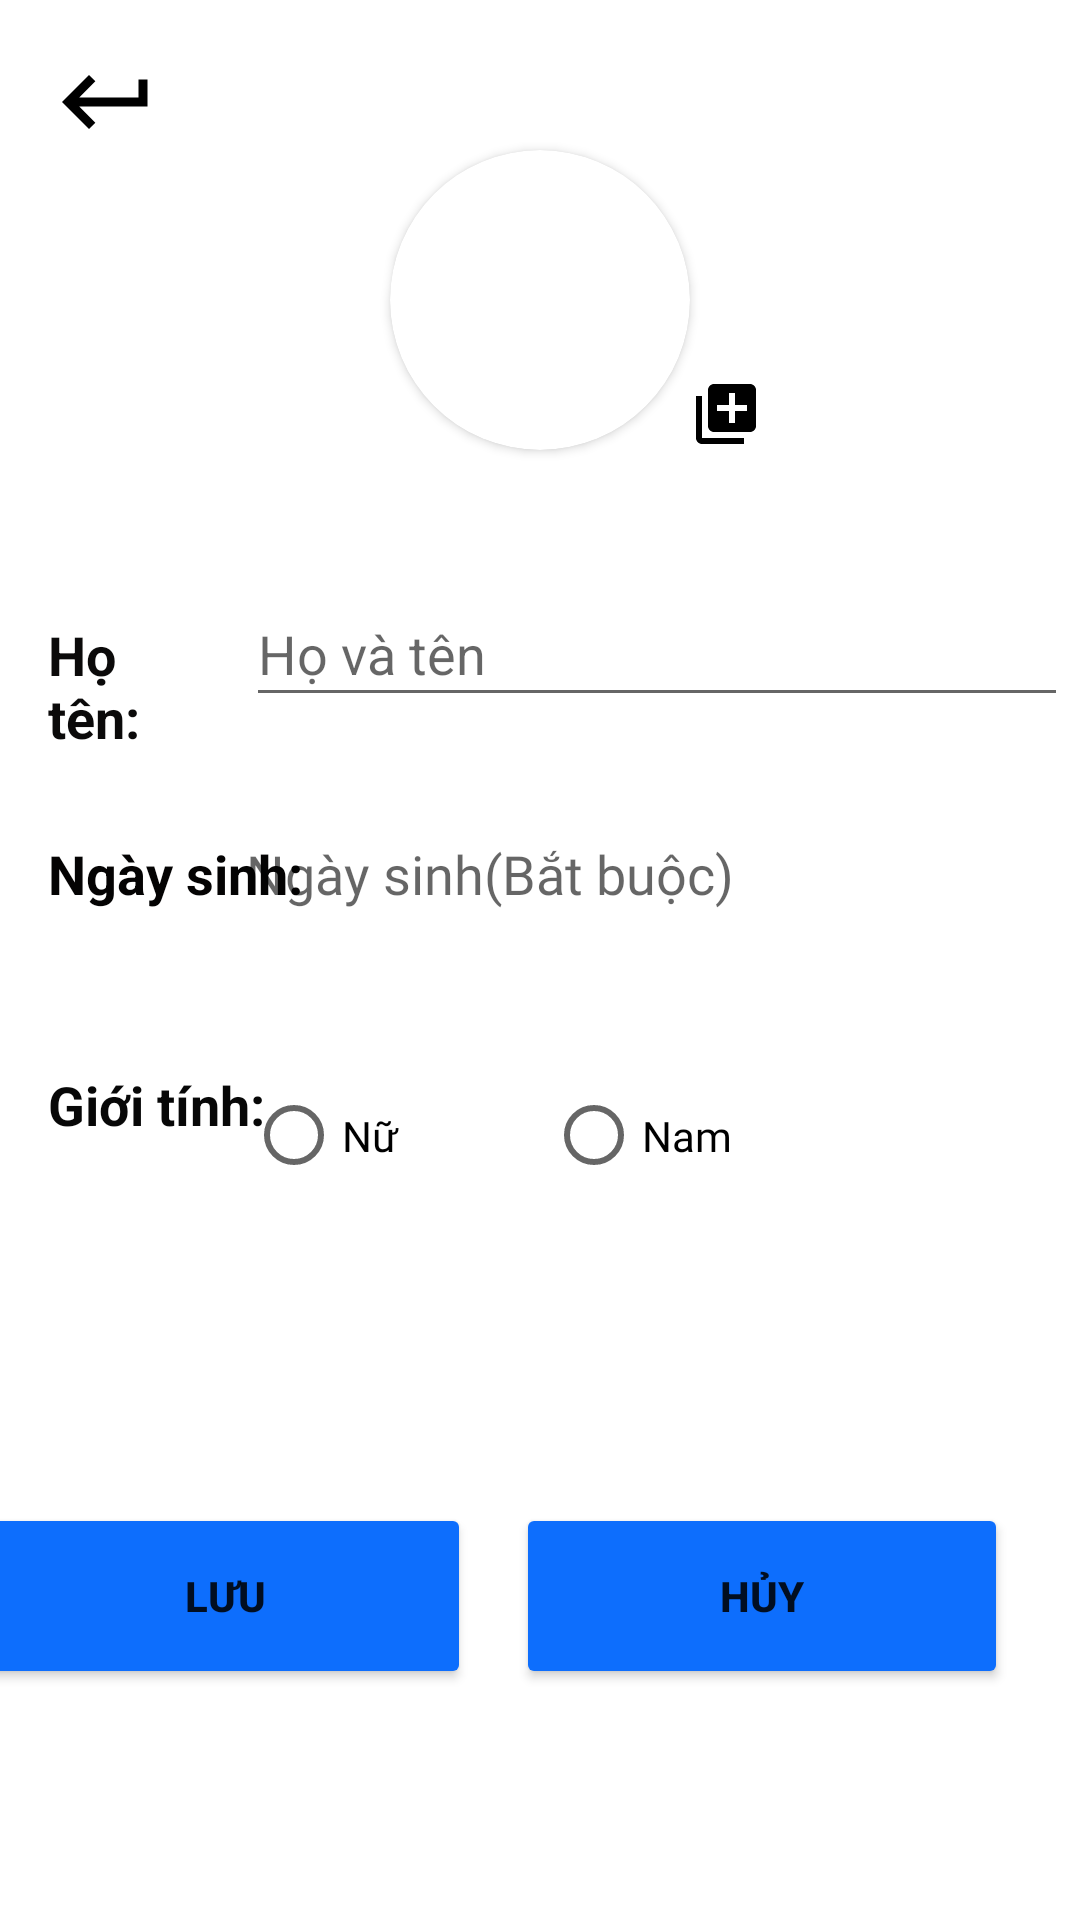

Icon bounding boxes for this 1080×1920 phone screenshot, format (x1, y1, x2, y2):
keyboard return: (62, 75, 148, 129)
queue: (696, 384, 756, 444)
